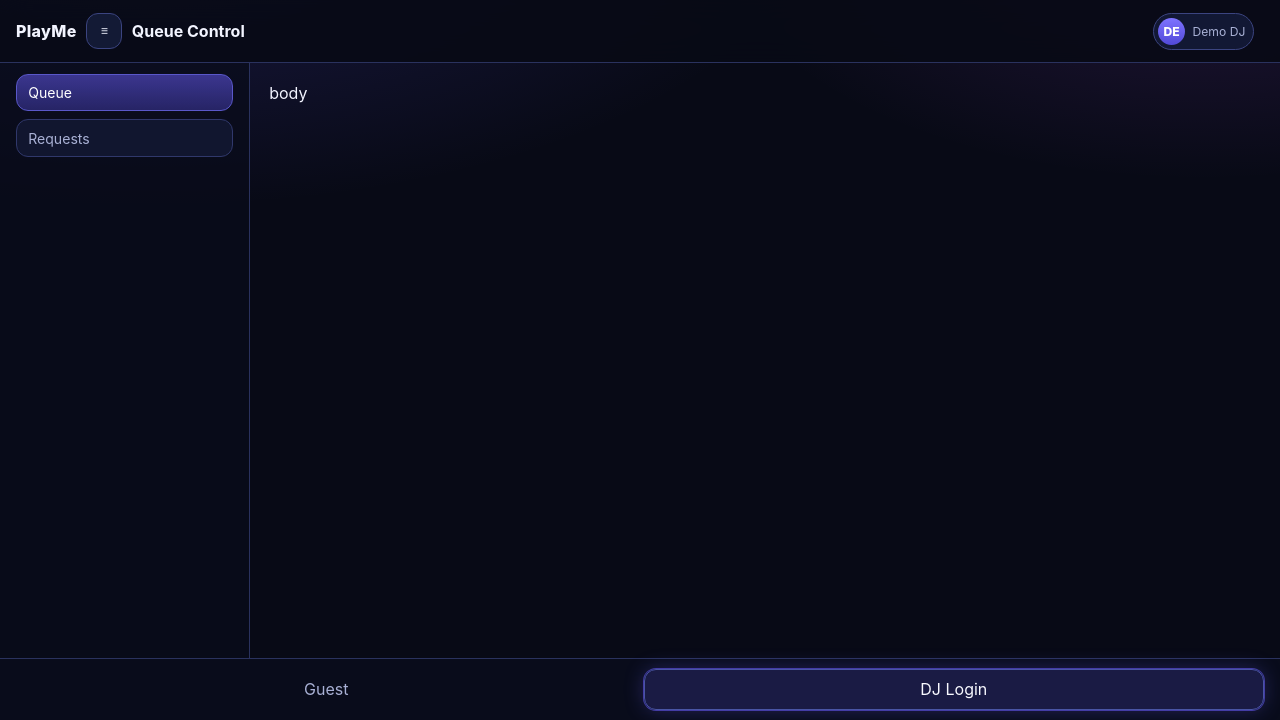
AppShell › supports profile edit and logout from user menu
Click the button with aria-label "User menu placeholder" at (1204, 31), box [1153,13,1254,50]
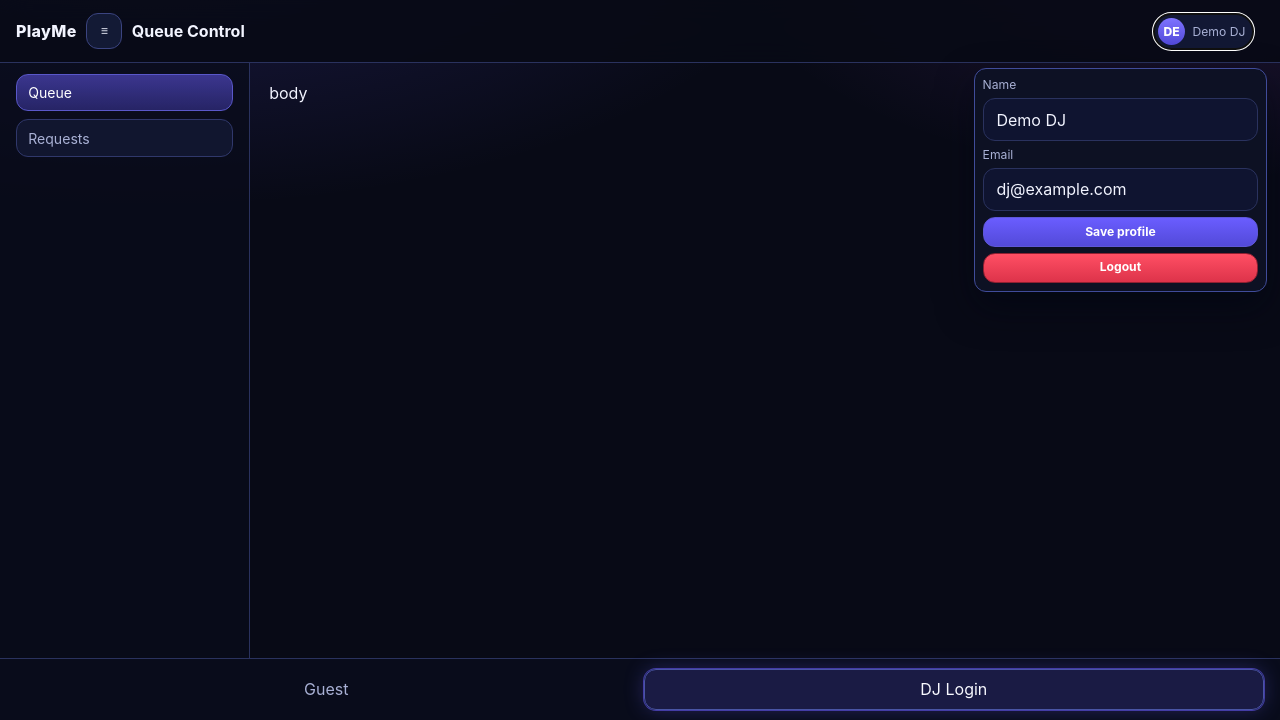
Now the field labelled "Name" is shown
Replace the text in the field labelled "Name" with "Updated DJ" at (1120, 120), box [983,98,1258,141]
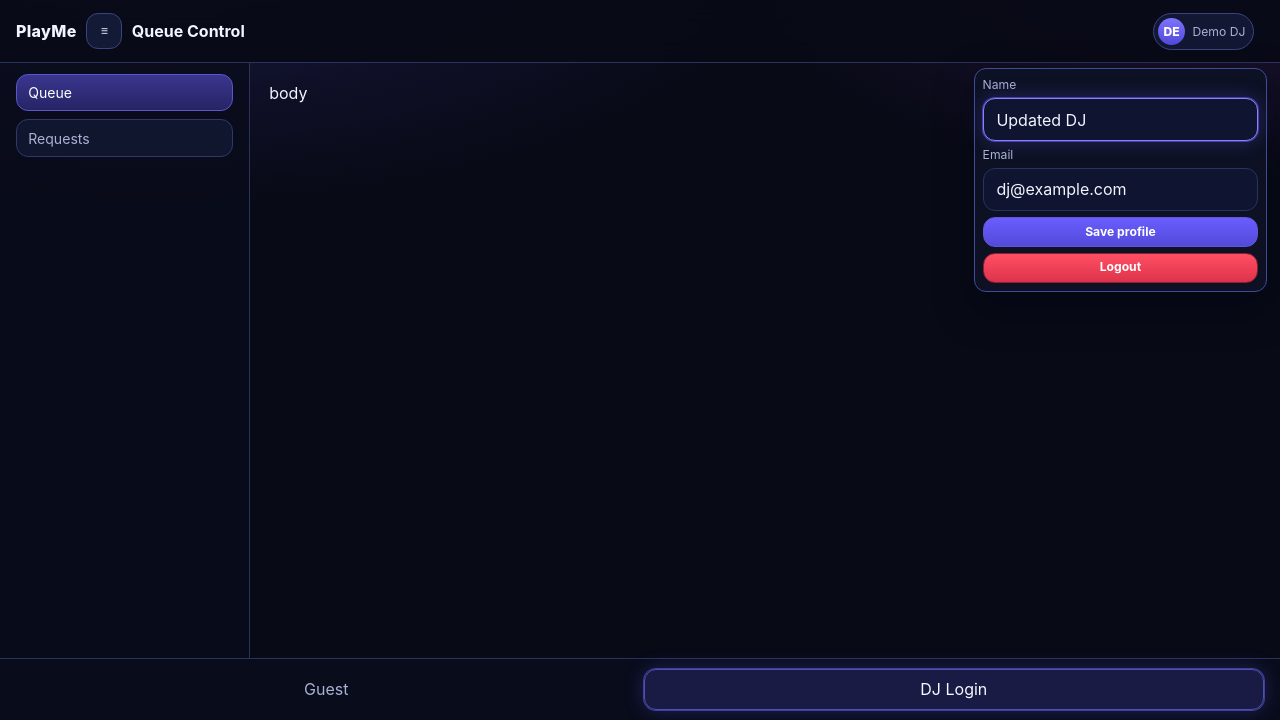
Replace the text in the field labelled "Email" with "updated@example.com" at (1120, 190), box [983,168,1258,211]
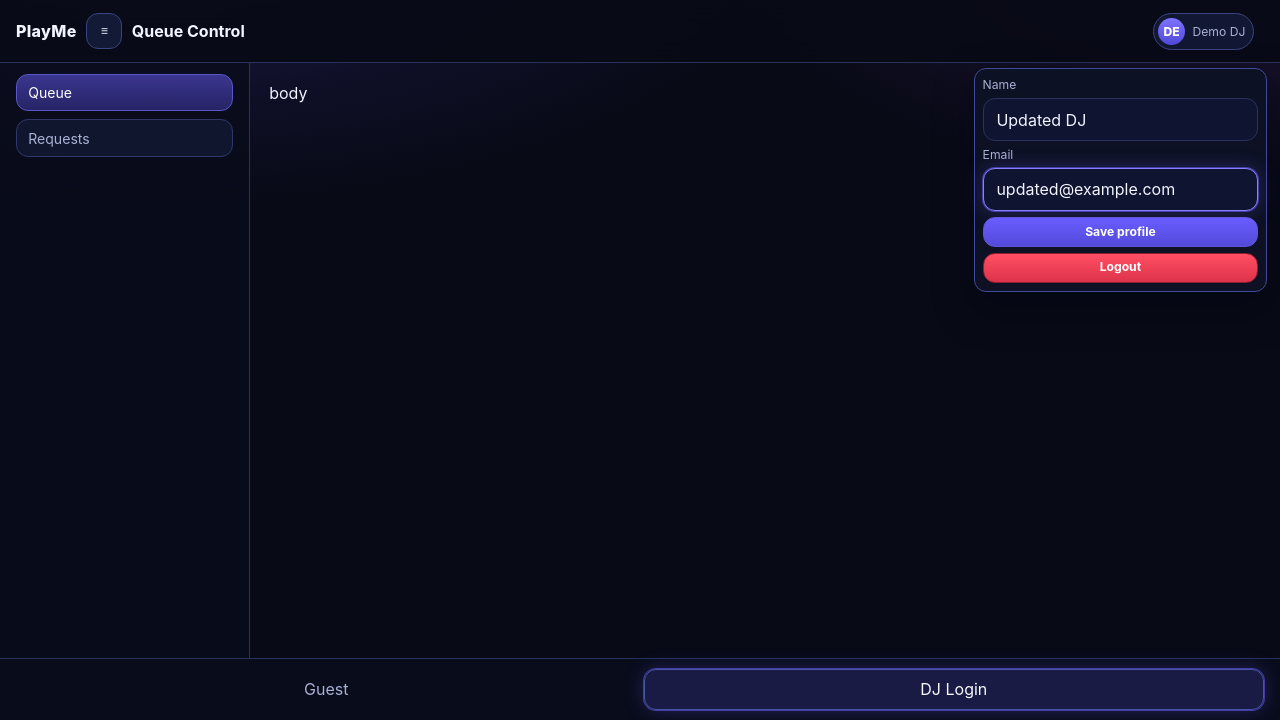
Click the button "Save profile" at (1120, 232), box [983,217,1258,247]
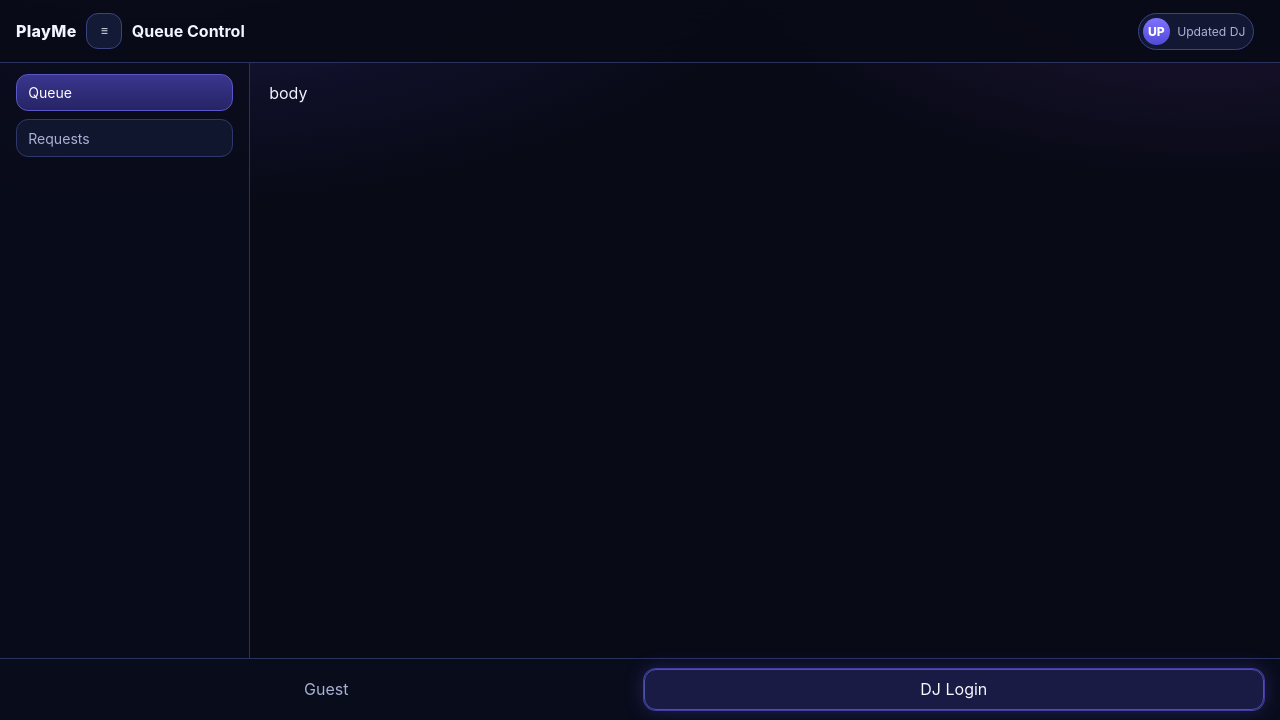
Now the text "Updated DJ" is shown, box [1177,24,1245,39]
